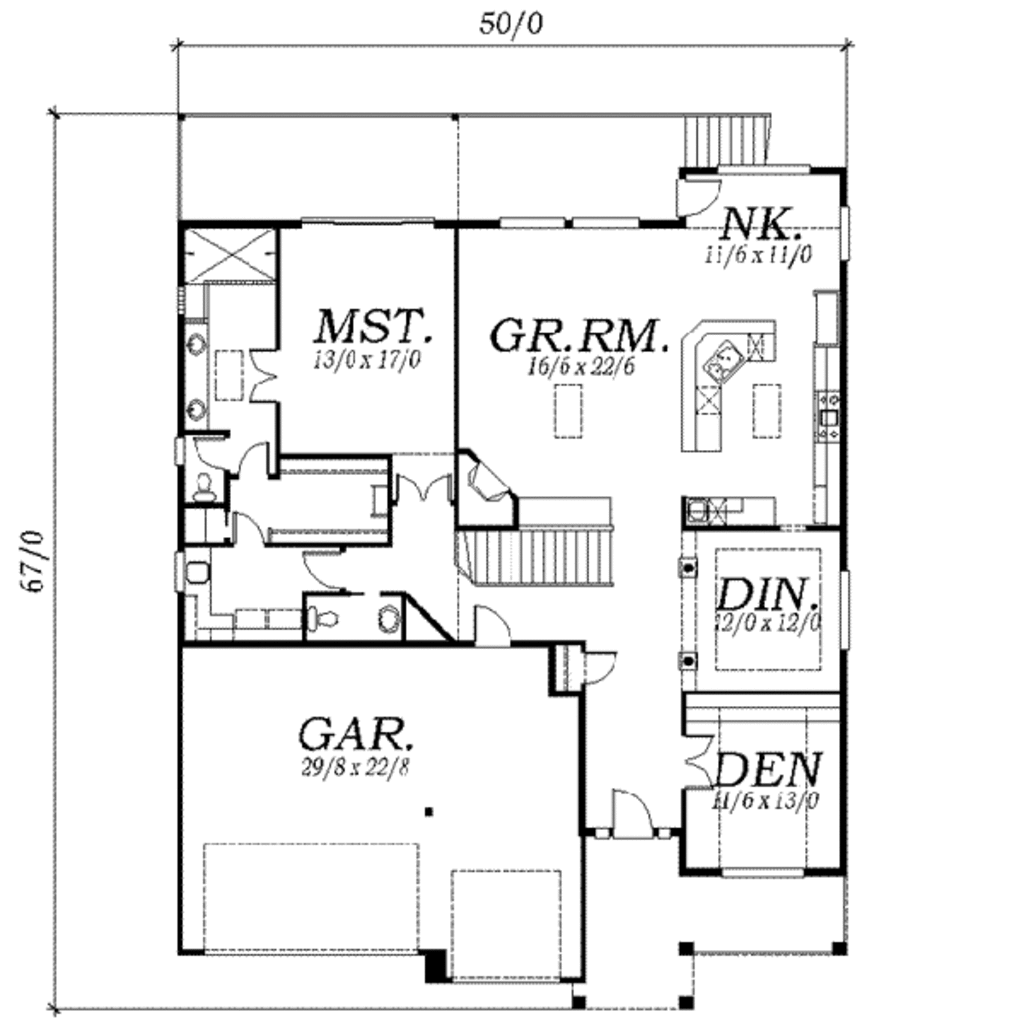door: (675, 730, 733, 800), (292, 547, 364, 596), (608, 777, 664, 836), (245, 342, 295, 405), (464, 596, 520, 649), (394, 471, 461, 511), (234, 435, 288, 478), (184, 432, 239, 474), (580, 641, 619, 689), (231, 516, 275, 546)
large_sink: (302, 596, 350, 639), (188, 467, 228, 507)
small_sink: (184, 325, 211, 432), (375, 597, 406, 641)
stairs: (450, 513, 619, 589), (659, 94, 784, 166)
twin_sink: (695, 325, 750, 388)
window: (292, 207, 434, 239), (492, 216, 642, 233), (830, 558, 856, 652), (706, 861, 814, 880), (828, 203, 856, 267), (717, 161, 811, 178)
